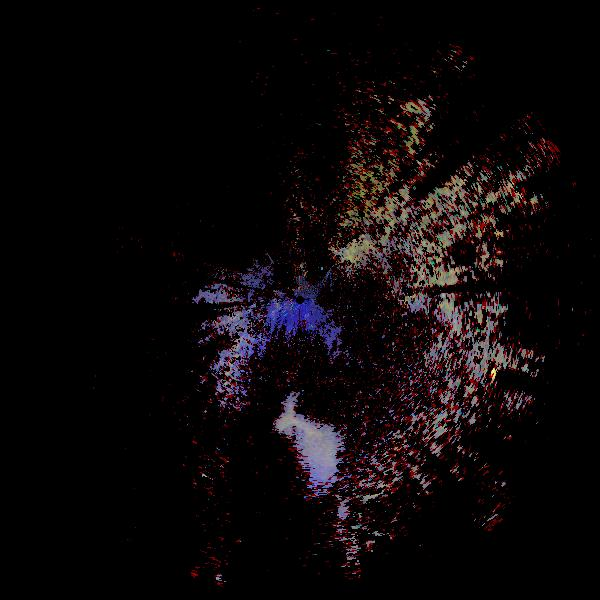roost: (255, 411, 333, 489)
